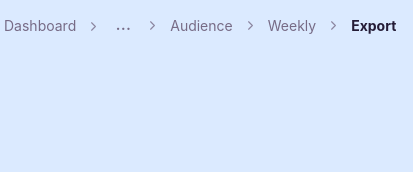
it: Breadcrumbs › collapses a six-item desktop trail and reveals hidden ancestors
Click the button named "Show hidden breadcrumb items": (123, 26) [111,14,135,38]
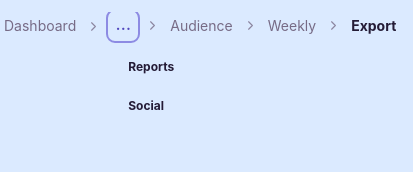
Check: the button named "Show hidden breadcrumb items" is expanded, box [111,14,135,38]
Check: the menu item "Reports" is enabled
Check: the menu item "Social" is enabled, box [128,98,164,113]
Click the menu item "Reports": (151, 66) [128,59,174,74]
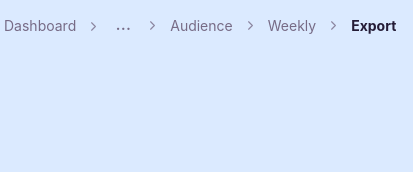
Check: the button named "Show hidden breadcrumb items" is collapsed, box [111,14,135,38]
